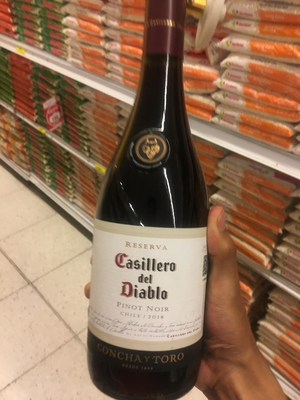casillero del diablo pinot noir: (90, 17, 220, 400)
